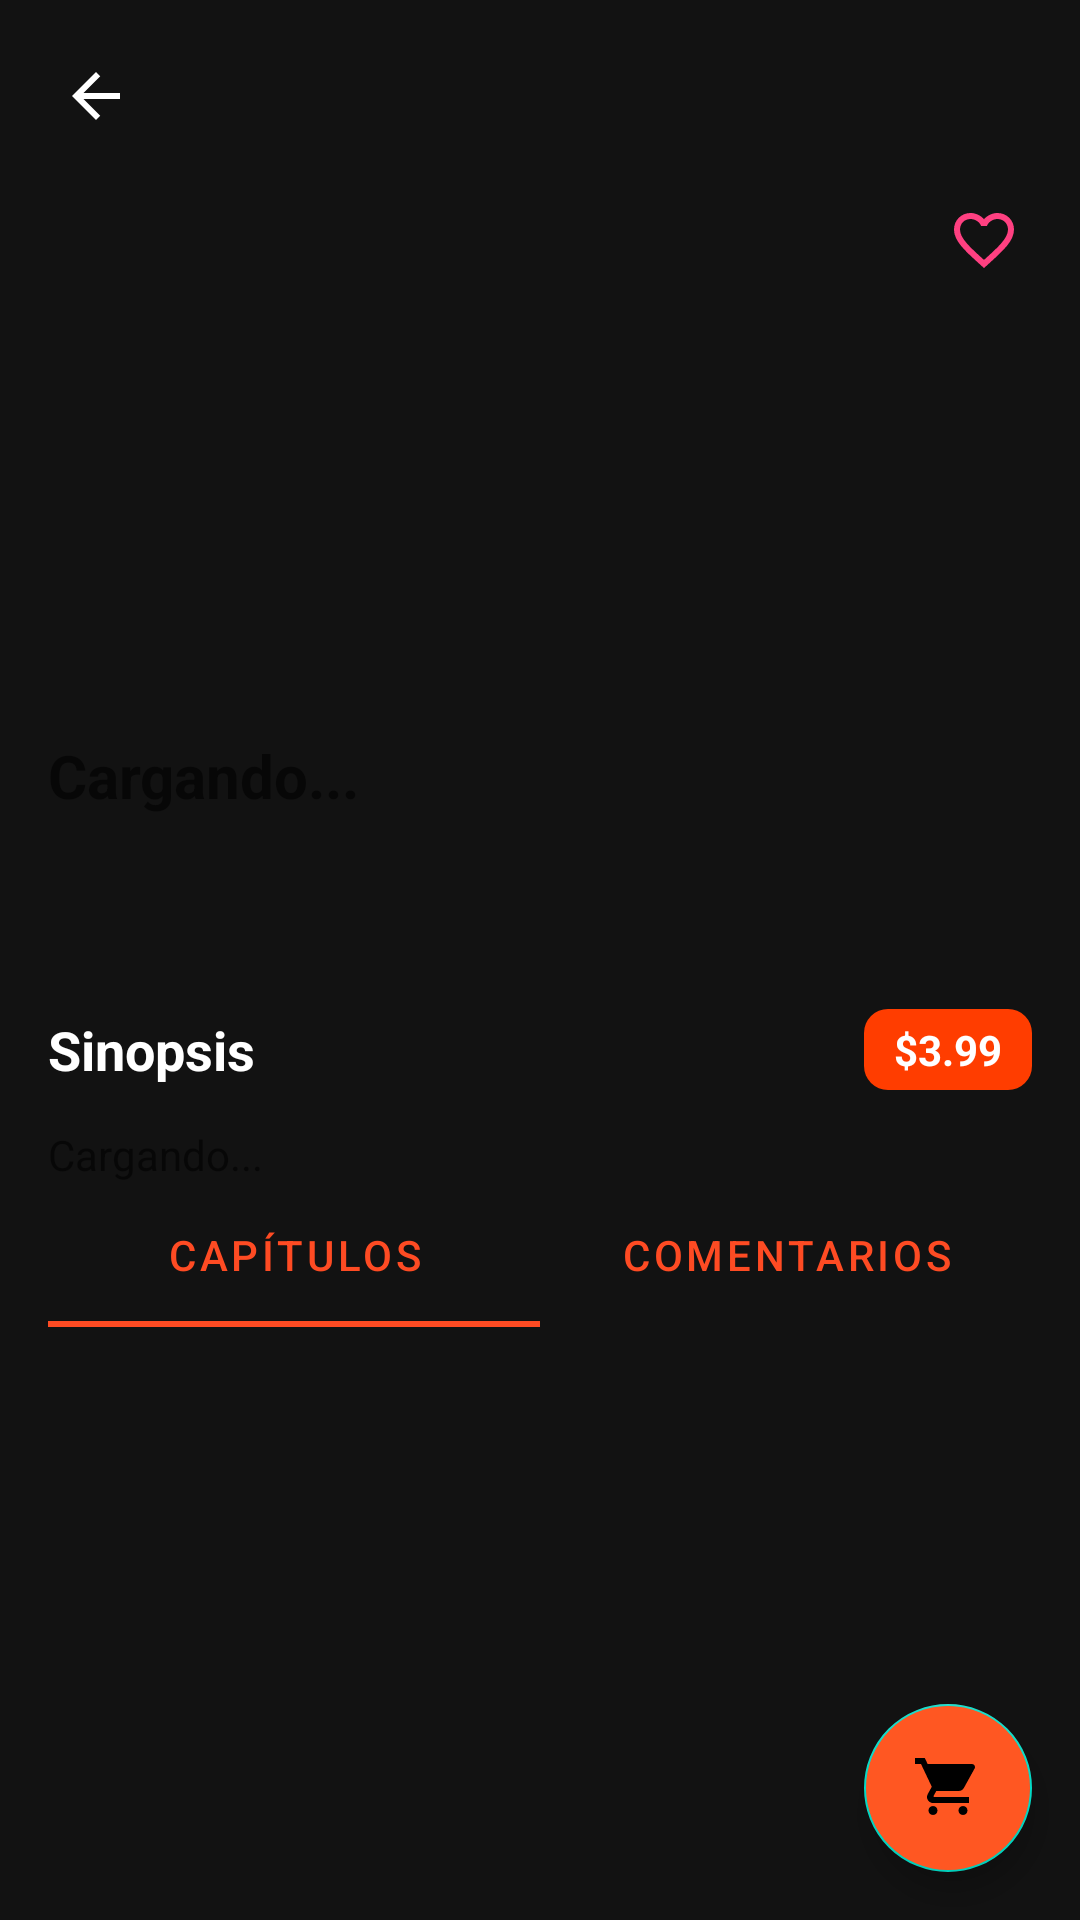

Named icons in this screenshot (1080x1920) and their bounding boxes, box=[x1, y1, x2, y2]:
Agregar a la lista de deseos: box=[954, 213, 1014, 268]
Atrás: box=[72, 72, 120, 120]
